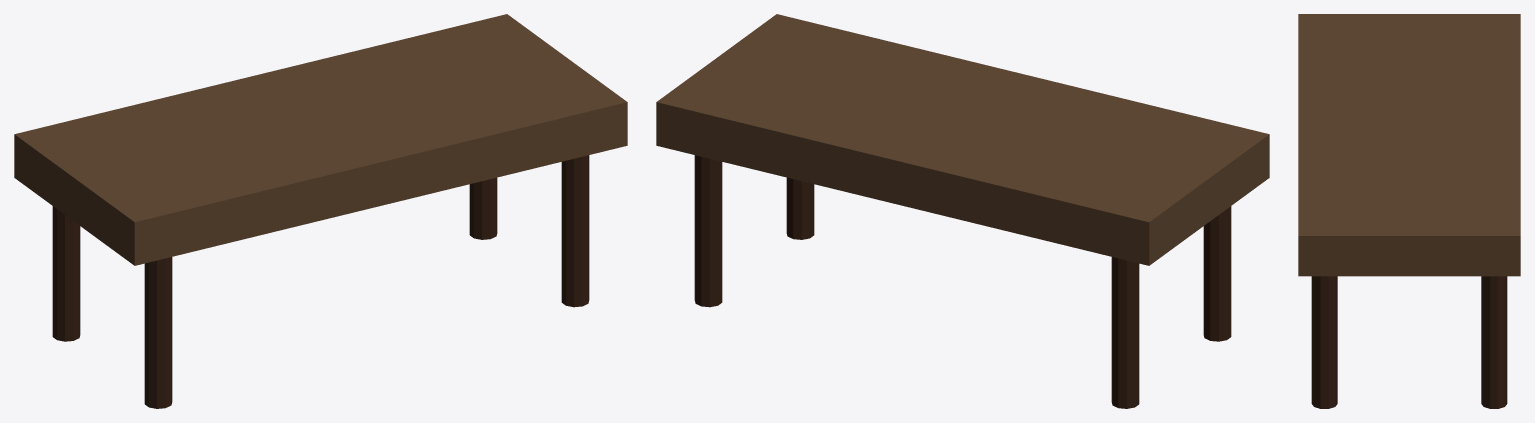
The model's file is GalakasMidCity_INT_Desk_Scribe_01.obj.
3 views of the same model, side by side, from view 1: azimuth 30°, elevation 25°; view 2: azimuth 150°, elevation 25°; view 3: azimuth 270°, elevation 25° (orthographic). The views are drawn at different scales.
Parts seen in each view (by area): view 1: table_top, table_leg_1_1_0_42, table_leg_-1_1_0_42, table_leg_-1_1_-0_42, table_leg_1_1_-0_42; view 2: table_top, table_leg_1_1_-0_42, table_leg_-1_1_-0_42, table_leg_-1_1_0_42, table_leg_1_1_0_42; view 3: table_top, table_leg_1_1_-0_42, table_leg_1_1_0_42.
Part boxes in pixels (x1=…): table_top: x1=14, y1=14, x2=627, y2=265; table_leg_1_1_0_42: x1=561, y1=155, x2=589, y2=307; table_leg_-1_1_0_42: x1=144, y1=257, x2=172, y2=408; table_leg_-1_1_-0_42: x1=52, y1=206, x2=80, y2=341; table_leg_1_1_-0_42: x1=469, y1=177, x2=497, y2=239; table_top: x1=656, y1=14, x2=1269, y2=265; table_leg_1_1_-0_42: x1=694, y1=155, x2=722, y2=307; table_leg_-1_1_-0_42: x1=1111, y1=257, x2=1139, y2=408; table_leg_-1_1_0_42: x1=1203, y1=206, x2=1231, y2=341; table_leg_1_1_0_42: x1=786, y1=177, x2=814, y2=239; table_top: x1=1298, y1=14, x2=1520, y2=276; table_leg_1_1_-0_42: x1=1481, y1=276, x2=1507, y2=408; table_leg_1_1_0_42: x1=1311, y1=276, x2=1337, y2=408.
Bounding box in the file's own units: 2.6 × 1.01 × 1.1.
